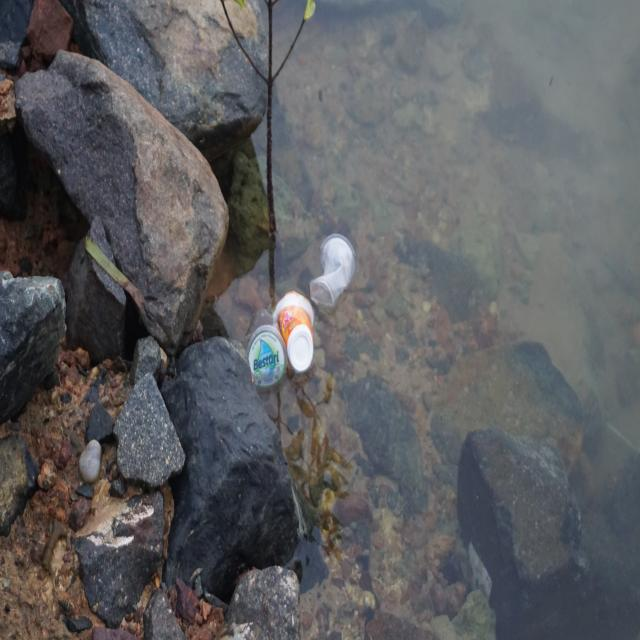Bungkus Minuman: (274, 288, 323, 376), (311, 229, 361, 313), (245, 297, 287, 387)
